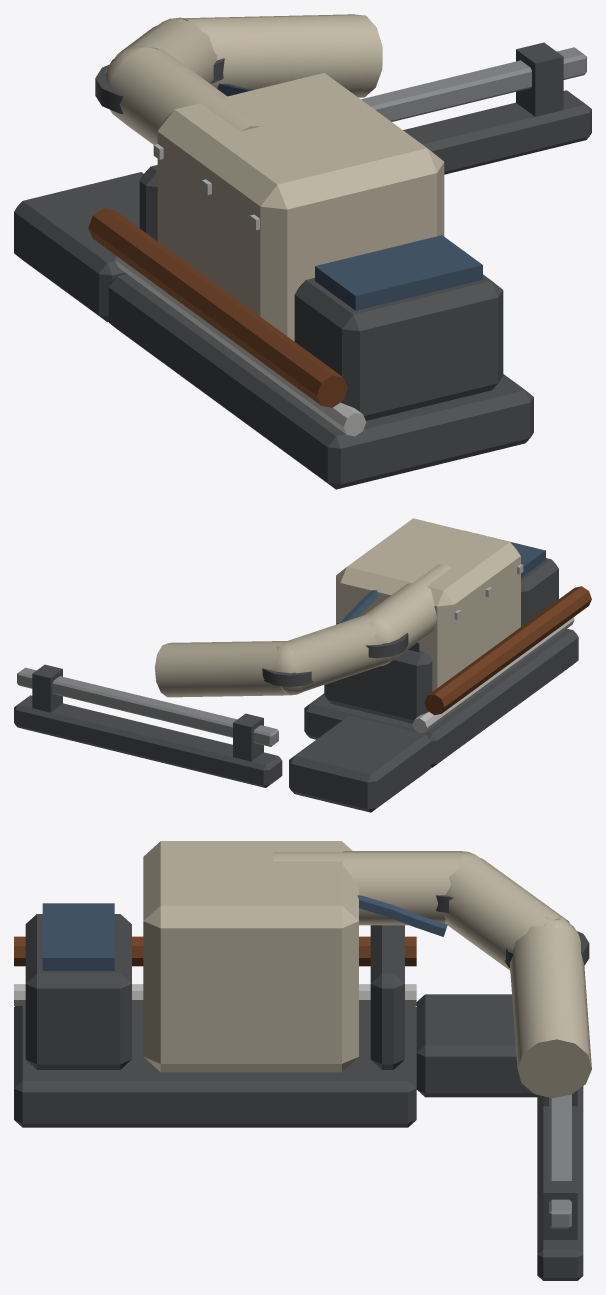
File: cargo-bay-corner-nw.glb
3 renders of one model, top to bottom at view 1: azimuth 30°, elevation 25°; view 2: azimuth 150°, elevation 25°; view 3: azimuth 270°, elevation 25°, orthographic. The views are drawn at different scales.
Parts seen in each view (by area): view 1: body; view 2: body; view 3: body.
Boxes of the visible parts, bbox=[...] form: body: bbox=[14, 14, 591, 489]; body: bbox=[14, 518, 591, 812]; body: bbox=[14, 841, 591, 1280].
Size of the model in its own units: 2.03 by 0.83 by 2.01.
